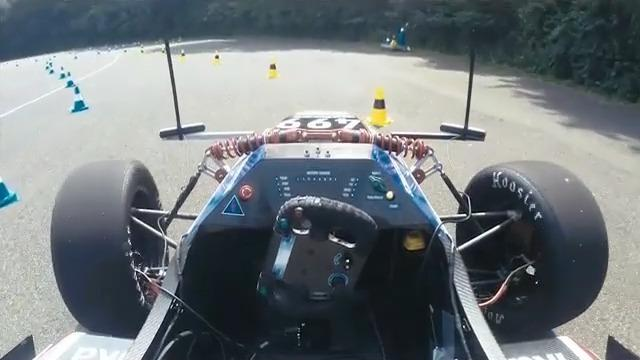blue_cone: (0, 162, 20, 206), (69, 87, 89, 111), (66, 71, 75, 89), (58, 66, 66, 80), (49, 64, 54, 76), (44, 61, 49, 71)
yellow_cone: (362, 88, 392, 125), (267, 62, 279, 78), (211, 51, 223, 65), (178, 50, 188, 60), (160, 46, 167, 57)
